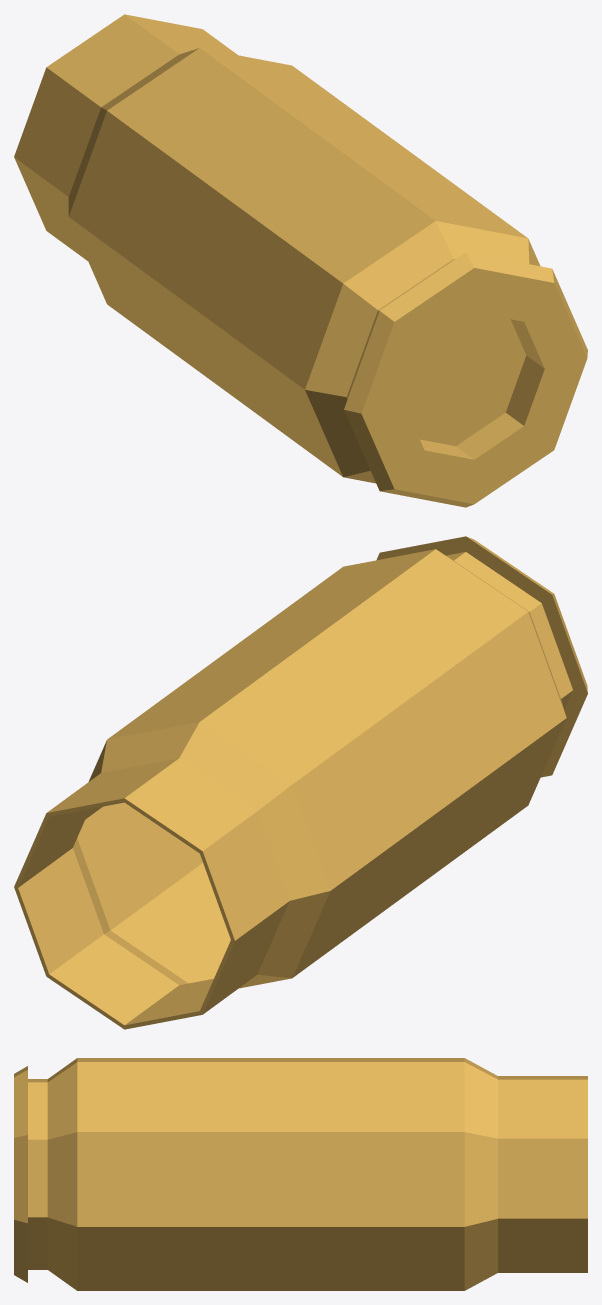
File: case.glb
The picture shows the model from 3 angles, top to bottom: view 1: azimuth 30°, elevation 25°; view 2: azimuth 150°, elevation 25°; view 3: azimuth 270°, elevation 25°; orthographic projection. The views are drawn at different scales.
Visible parts, largest first — view 1: 9x19-parabellum-case; view 2: 9x19-parabellum-case; view 3: 9x19-parabellum-case.
Boxes of the visible parts, x1,y1,x2,y2 form: 9x19-parabellum-case: (14,14,587,507); 9x19-parabellum-case: (14,536,587,1029); 9x19-parabellum-case: (14,1058,587,1290).
Bounding box in the file's own units: 0.00907 × 0.00907 × 0.021.
